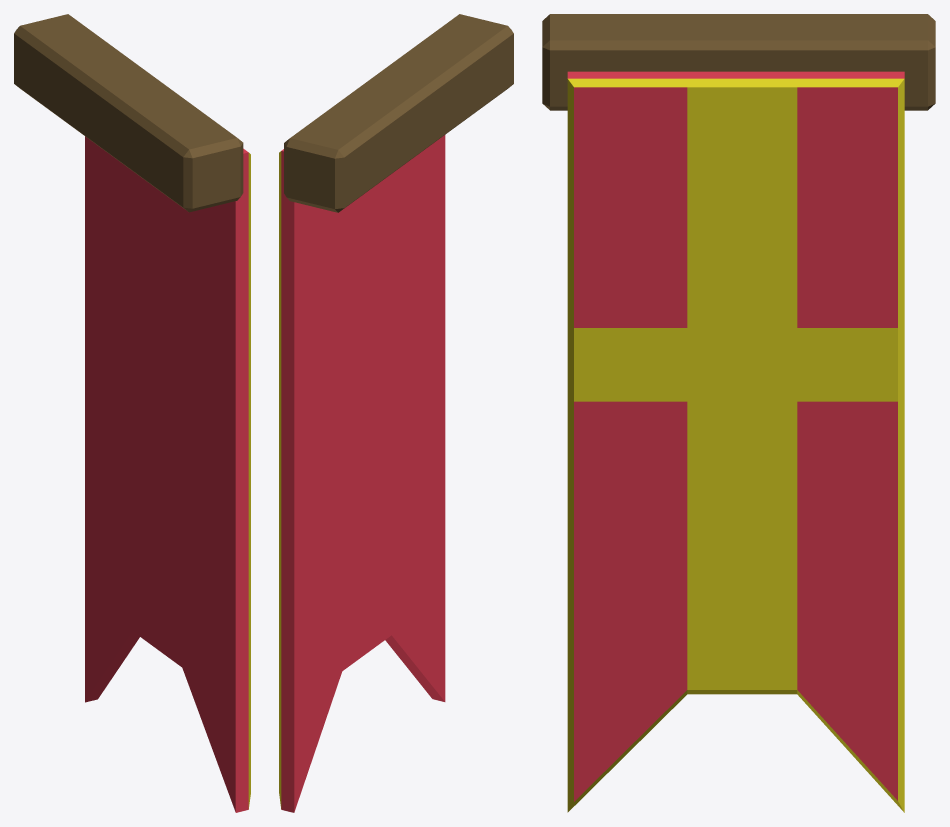
The model's file is flag.fbx.
3 views of the same model, side by side, from view 1: azimuth 30°, elevation 25°; view 2: azimuth 150°, elevation 25°; view 3: azimuth 270°, elevation 25° (orthographic). The views are drawn at different scales.
Visible parts, largest first — view 1: Cube; view 2: Cube; view 3: Cube.
Boxes of the visible parts, x1,y1,x2,y2 form: Cube: [14, 14, 250, 812]; Cube: [279, 14, 513, 812]; Cube: [542, 14, 935, 812].
Bounding box in the file's own units: 60.04 × 499 × 233.
